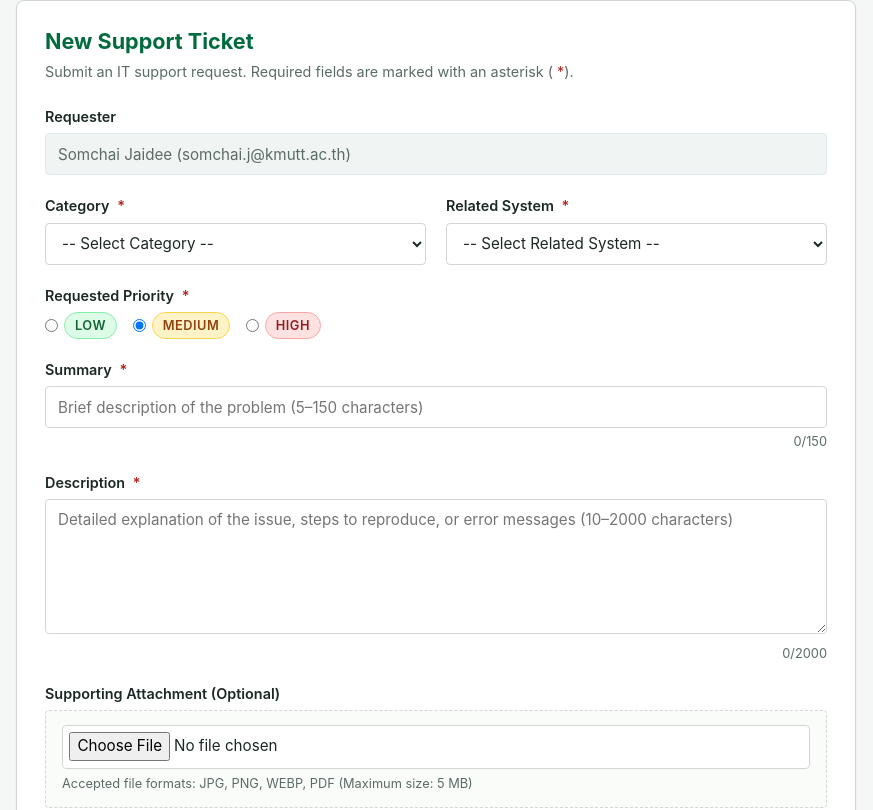
Test: Create Ticket UI & Validation (Issue 6) › UI-03: Client-Side Validation (AC-02, AC-03) › UI-03 (AC-02): displays inline error for empty summary and blocks submission
The width and height of the screenshot is (873, 810).
Note: Select category and system, fill description, leave summary empty
Select "Hardware" in the dropdown labelled "Category *" at (236, 244), box x1=45 y1=222 x2=426 y2=264
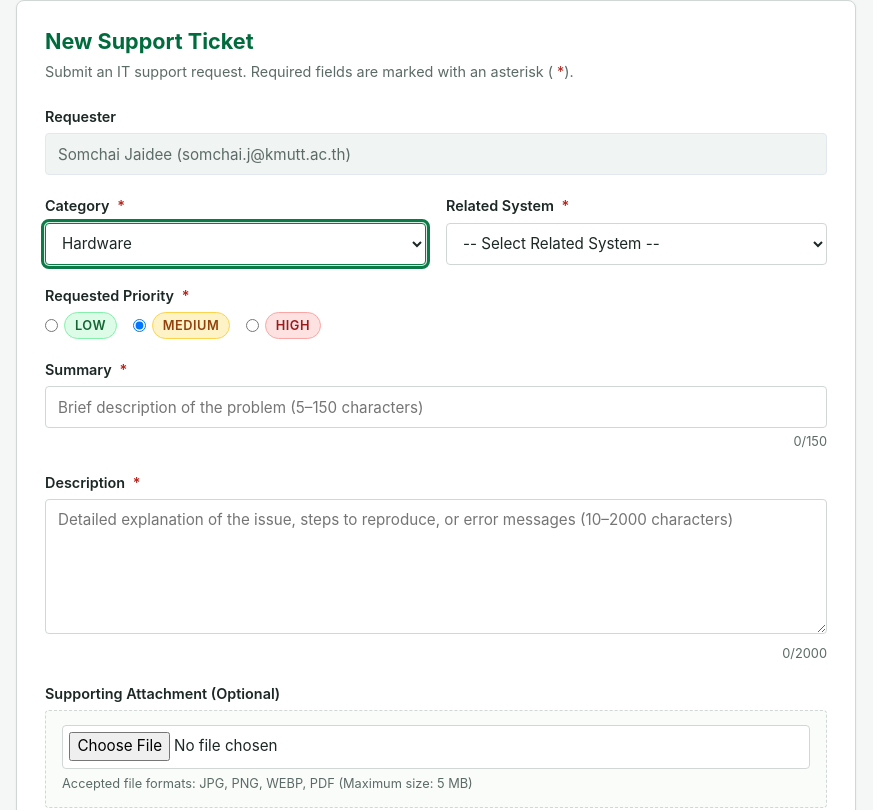
Select "Email" in the dropdown labelled "Related System *" at (636, 244), box x1=446 y1=222 x2=827 y2=264
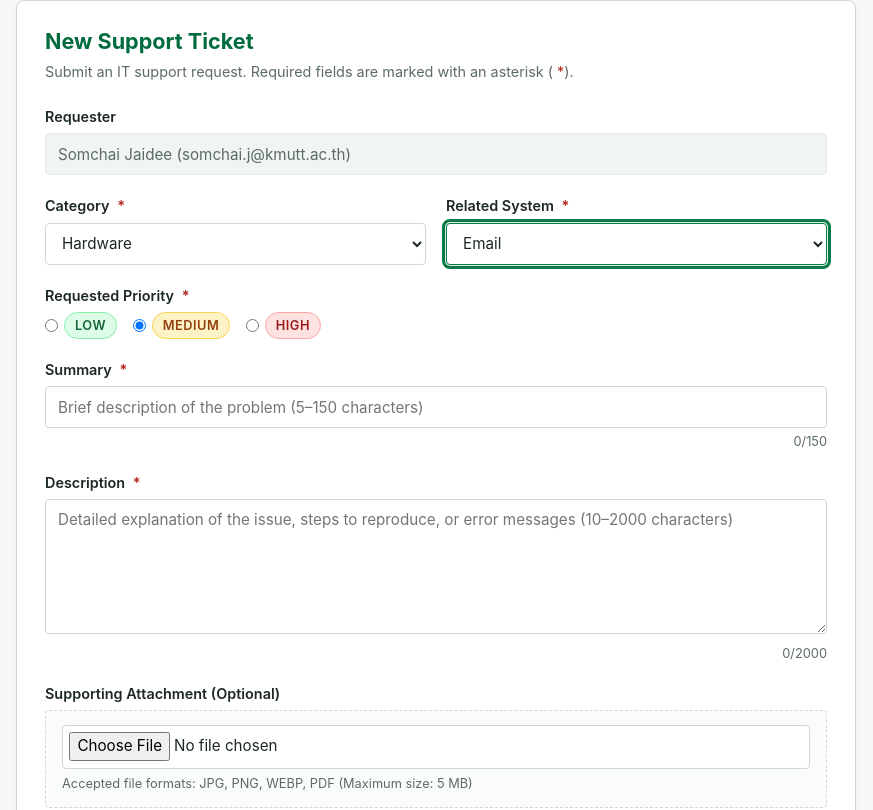
Type "Valid description with over 10 chars" into the text box labelled "Description *" at (436, 566), box x1=45 y1=499 x2=827 y2=634
(page scrolled)
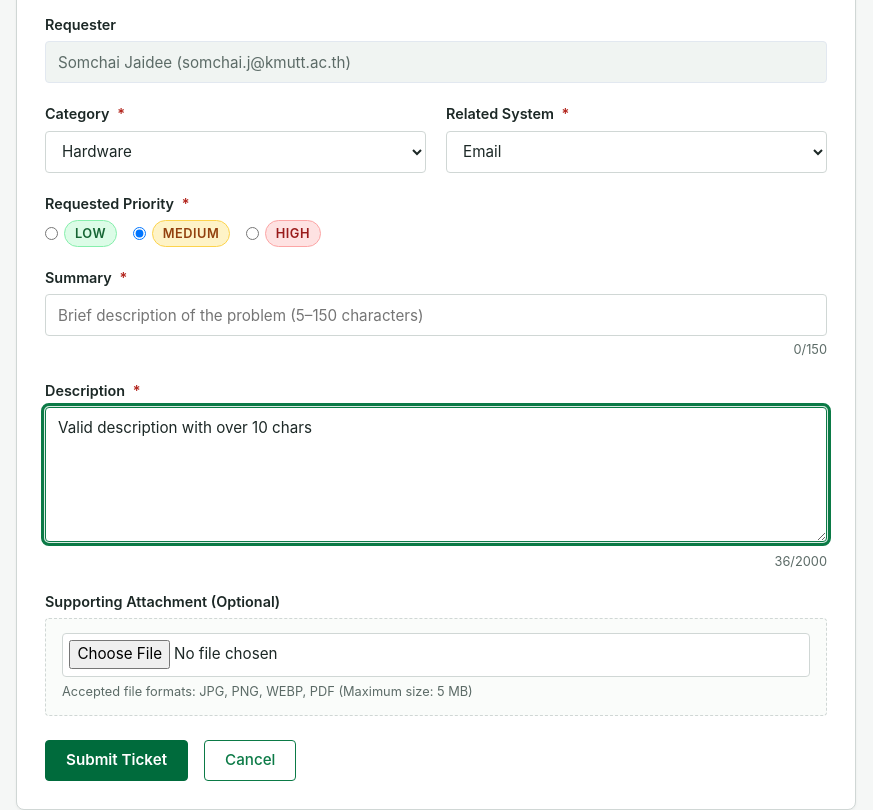
Click the button "Submit Ticket" at (116, 760), box x1=45 y1=740 x2=188 y2=781
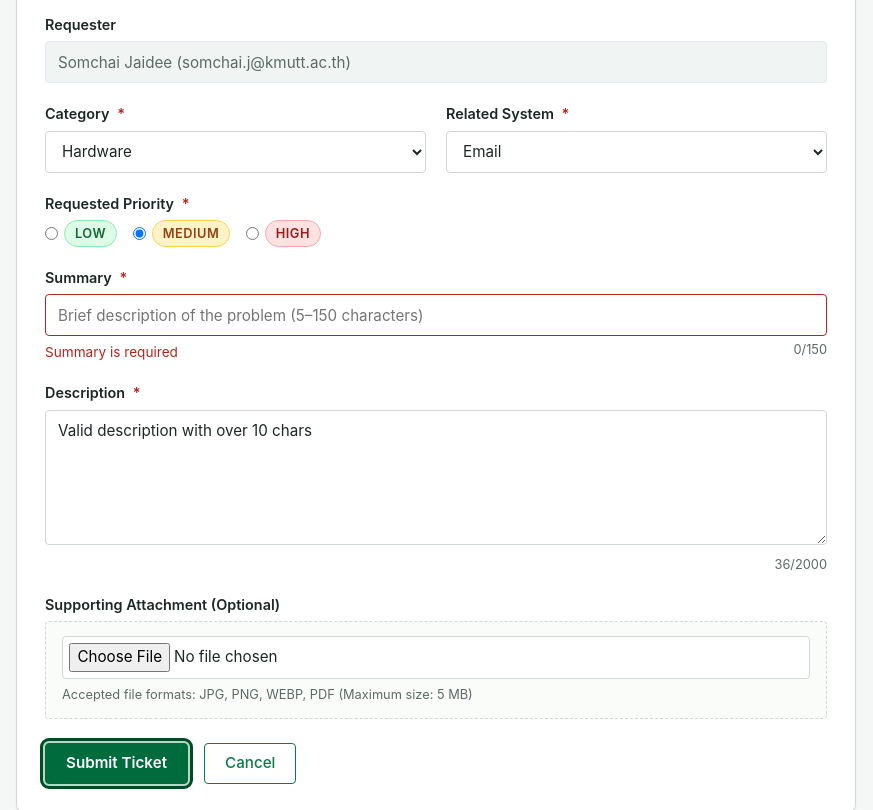
expect the text "Summary is required" is shown: met, box x1=45 y1=342 x2=178 y2=362
